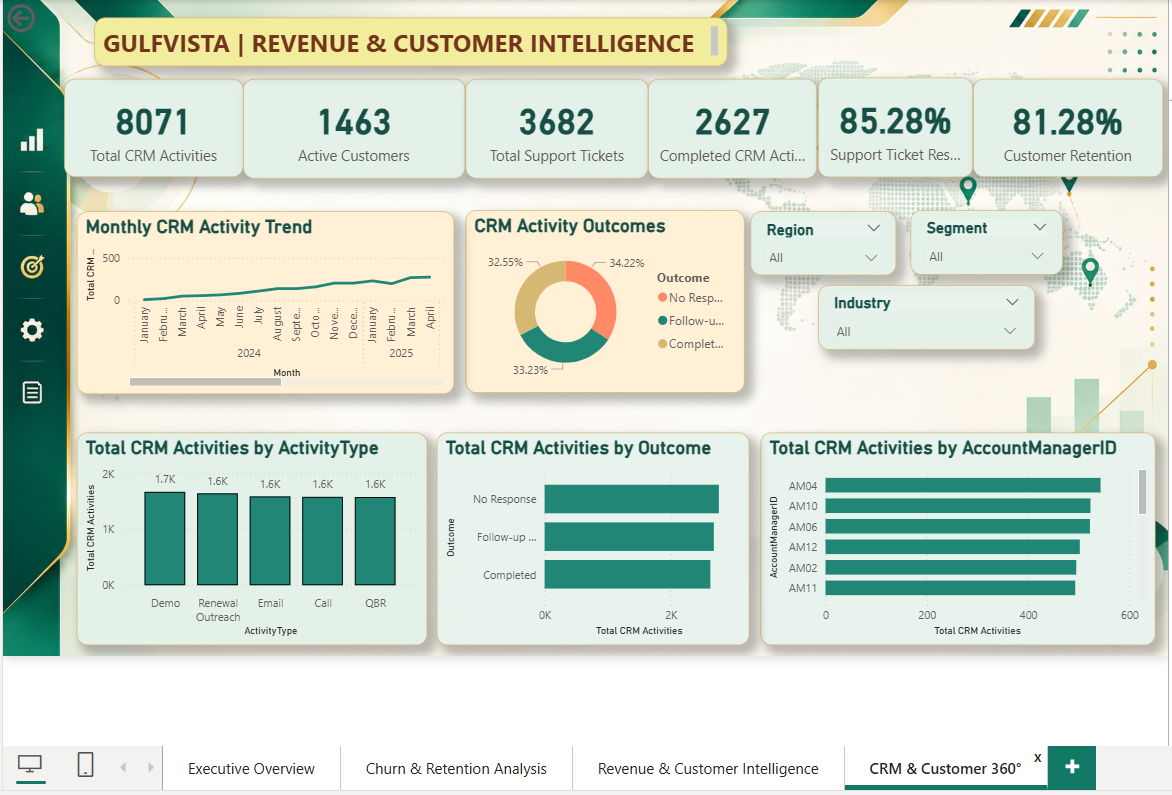

Layout of this report page (visuals, bound fields, positions):
{"tool":"powerbi","page":{"name":"CRM & Customer 360°","canvas":[1280,720],"ordinal":3},"visuals":[{"type":"card","fields":{"Values":["DimCustomer.Total CRM Activities"]},"box":[67.1,86.9,196.6,108.2],"z":0},{"type":"card","fields":{"Values":["DimCustomer.Active Customers"]},"box":[263.7,86.9,243.9,109.7],"z":1000},{"type":"card","fields":{"Values":["DimCustomer.Total Support Tickets"]},"box":[507.6,86.9,201.2,109.7],"z":2000},{"type":"card","fields":{"Values":["DimCustomer.Completed CRM Activities"]},"box":[708.7,86.9,185.9,109.7],"z":3000},{"type":"card","fields":{"Values":["FactSupportTicket.Support Ticket Resolution Rate"]},"box":[894.7,85.4,170.7,109.7],"z":4000},{"type":"card","fields":{"Values":["DimCustomer.Retention Rate"]},"box":[1065.4,86.9,208.8,108.2],"z":5000},{"type":"donutChart","title":"CRM Activity Outcomes","fields":{"Category":["FactCRMActivity.Outcome"],"Y":["DimCustomer.Total CRM Activities"]},"box":[507.6,231,306.5,201],"z":6000},{"type":"lineChart","title":"Monthly CRM Activity Trend","fields":{"Y":["DimCustomer.Total CRM Activities"],"Category":["DimDate.Date.Variation.Date Hierarchy.Year","DimDate.Date.Variation.Date Hierarchy.Month"]},"box":[80.8,231.7,414.6,201.2],"z":7000},{"type":"clusteredBarChart","fields":{"Category":["FactCRMActivity.AccountManagerID"],"Y":["DimCustomer.Total CRM Activities"]},"box":[831.2,474.8,433.4,233.8],"z":8000},{"type":"clusteredColumnChart","fields":{"Category":["FactCRMActivity.ActivityType"],"Y":["DimCustomer.Total CRM Activities"]},"box":[81.3,474.8,384.9,233.8],"z":9000},{"type":"clusteredBarChart","fields":{"Category":["FactCRMActivity.Outcome"],"Y":["DimCustomer.Total CRM Activities"]},"box":[476.2,474.8,343.6,233.8],"z":10000},{"type":"slicer","fields":{"Values":["DimCustomer.Region"]},"box":[820,231.7,160,70.1],"z":11000},{"type":"slicer","fields":{"Values":["DimCustomer.Segment"]},"box":[996.6,231,166.8,71.3],"z":12000},{"type":"slicer","fields":{"Values":["DimCustomer.Industry"]},"box":[895.3,312.2,238.1,71.3],"z":13000},{"type":"actionButton","box":[0,0,100,40],"z":14000},{"type":"actionButton","box":[0,0,67.1,39.6],"z":15000},{"type":"textbox","box":[100.6,19.8,695,53.3],"z":16000}]}

Visuals, with their boxes on the page's 1280x720 design canvas (x1, y1, x2, y2). These are canvas units, not pixel positions in the 1172x795 screenshot, which may show the page scaled, cropped or inside an application window:
card - DimCustomer.Total CRM Activities: BBox(67, 87, 264, 195)
card - DimCustomer.Active Customers: BBox(264, 87, 508, 197)
card - DimCustomer.Total Support Tickets: BBox(508, 87, 709, 197)
card - DimCustomer.Completed CRM Activities: BBox(709, 87, 895, 197)
card - FactSupportTicket.Support Ticket Resolution Rate: BBox(895, 85, 1065, 195)
card - DimCustomer.Retention Rate: BBox(1065, 87, 1274, 195)
"CRM Activity Outcomes" donutChart: BBox(508, 231, 814, 432)
"Monthly CRM Activity Trend" lineChart: BBox(81, 232, 495, 433)
clusteredBarChart - FactCRMActivity.AccountManagerID x DimCustomer.Total CRM Activities: BBox(831, 475, 1265, 709)
clusteredColumnChart - FactCRMActivity.ActivityType x DimCustomer.Total CRM Activities: BBox(81, 475, 466, 709)
clusteredBarChart - FactCRMActivity.Outcome x DimCustomer.Total CRM Activities: BBox(476, 475, 820, 709)
slicer - DimCustomer.Region: BBox(820, 232, 980, 302)
slicer - DimCustomer.Segment: BBox(997, 231, 1163, 302)
slicer - DimCustomer.Industry: BBox(895, 312, 1133, 384)
actionButton: BBox(0, 0, 100, 40)
actionButton: BBox(0, 0, 67, 40)
textbox: BBox(101, 20, 796, 73)
